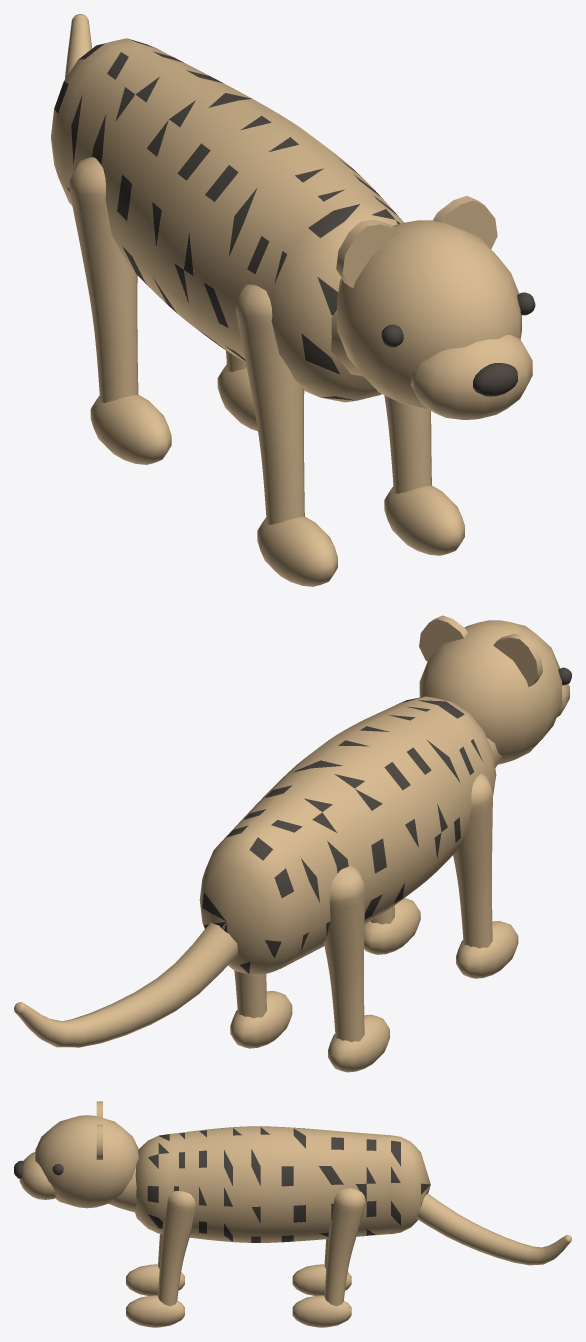
The model's file is rainforest-and-jungle-fauna-ocelot-5f7348ce__21670.glb.
3 renders of one model, top to bottom at view 1: azimuth 30°, elevation 25°; view 2: azimuth 150°, elevation 25°; view 3: azimuth 270°, elevation 25°, orthographic. The views are drawn at different scales.
Parts seen in each view (by area): view 1: ocelot; view 2: ocelot; view 3: ocelot.
Part boxes in pixels (<box>): ocelot: <box>51,14,535,586</box>; ocelot: <box>14,615,571,1072</box>; ocelot: <box>14,1101,571,1327</box>.
Bounding box in the file's own units: 0.2873 × 0.4661 × 1.2.
